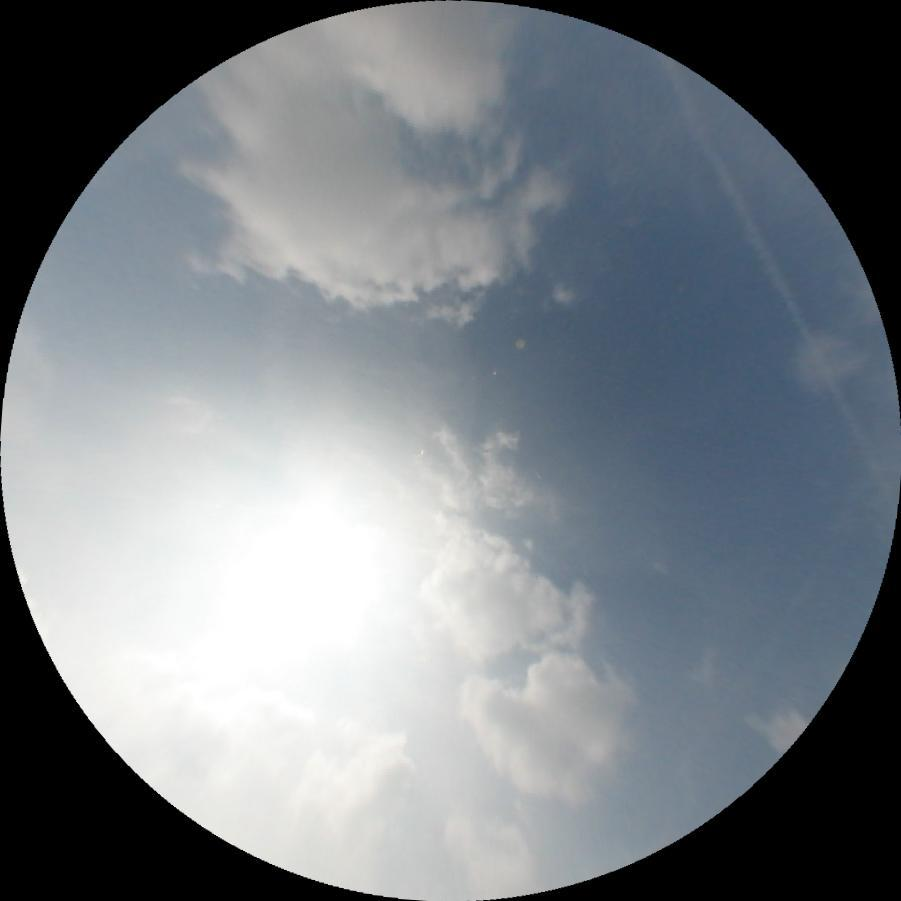contrail old: (653, 47, 900, 499)
sun: (201, 480, 420, 685)
